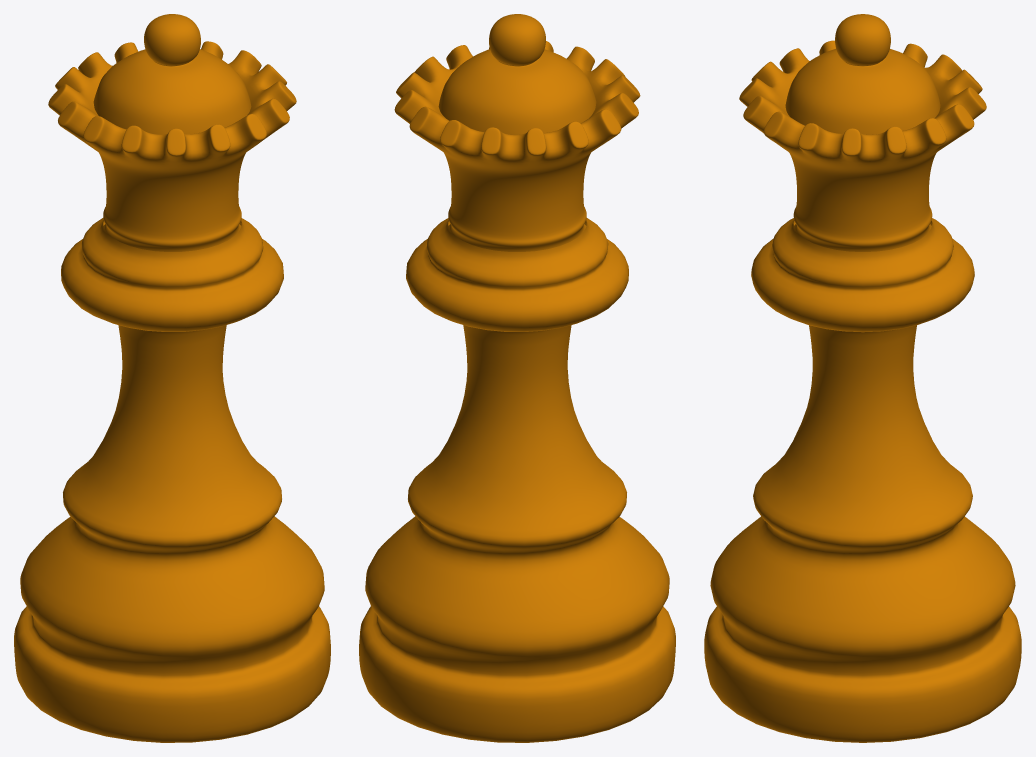
File: queen.obj
3 renders of one model, left to right at view 1: azimuth 30°, elevation 25°; view 2: azimuth 150°, elevation 25°; view 3: azimuth 270°, elevation 25°, orthographic.
Parts seen in each view (by area): view 1: Queen; view 2: Queen; view 3: Queen.
Boxes of the visible parts, box(x1,y1,x2,y2) form: Queen: box(14, 14, 330, 742); Queen: box(359, 14, 675, 742); Queen: box(704, 14, 1021, 742).
Bounding box in the file's own units: 0.5003 × 1.16 × 0.5003.
